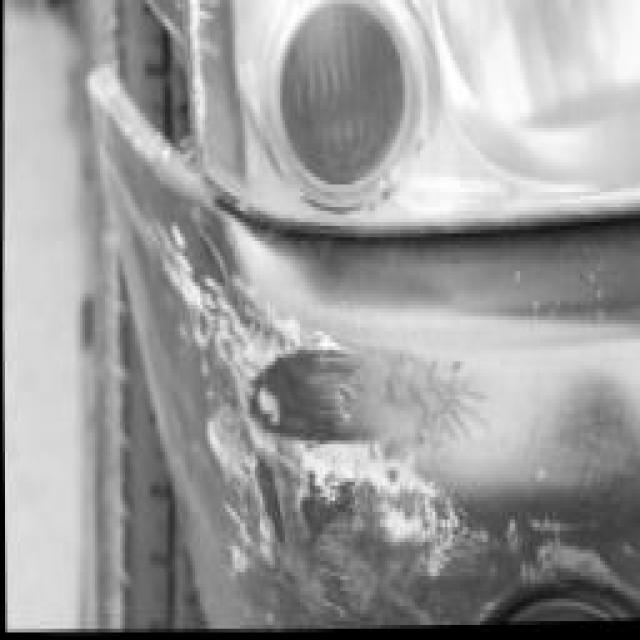Bumper: (85, 147, 569, 638)
